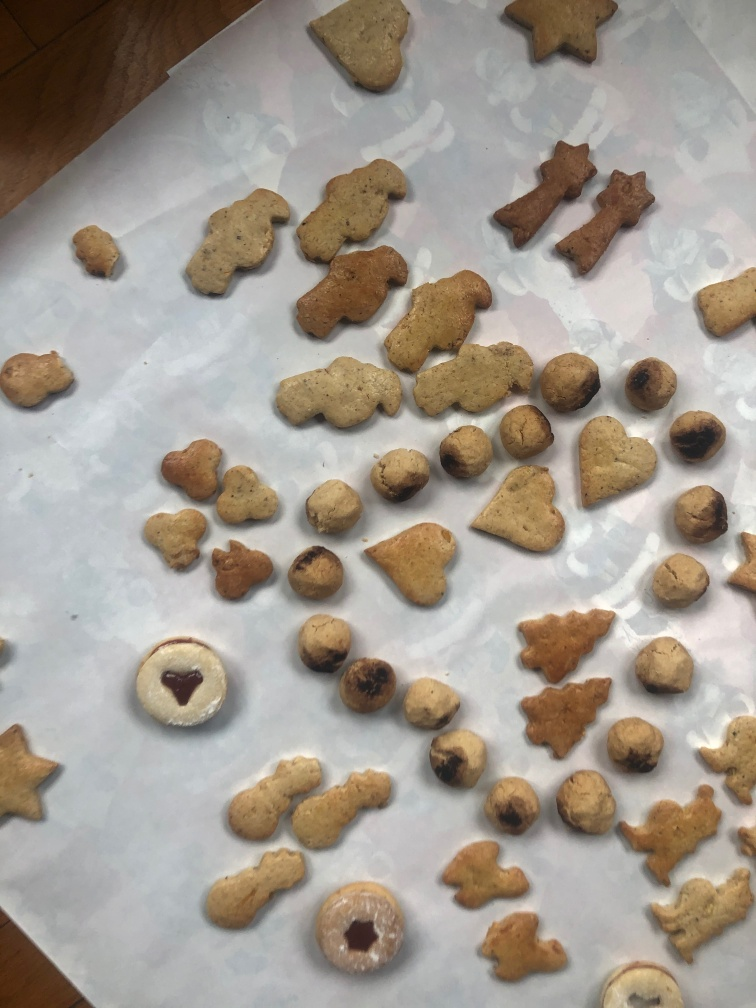christmas shortbread with jam: (313, 878, 413, 978), (132, 634, 226, 724), (594, 962, 691, 1008)
christmas tree: (514, 669, 616, 769), (514, 604, 616, 683)
flake: (206, 532, 280, 606), (216, 462, 283, 541), (141, 507, 210, 577), (158, 436, 227, 504)
heart: (308, 1, 423, 90), (467, 462, 565, 566), (360, 521, 467, 612), (574, 414, 660, 507)
lamb: (476, 907, 577, 988), (442, 834, 534, 906)
santa claus: (177, 181, 293, 298), (286, 243, 408, 349), (292, 156, 415, 259), (643, 862, 754, 970), (614, 782, 726, 889), (379, 266, 493, 365), (270, 354, 403, 433), (411, 338, 533, 422), (697, 706, 756, 804)
shooting star: (553, 167, 660, 275), (492, 137, 598, 246)
snowball: (282, 540, 348, 610), (605, 710, 664, 782), (631, 634, 696, 698), (537, 349, 599, 416), (398, 670, 469, 728), (557, 766, 616, 835), (645, 553, 714, 610), (304, 476, 361, 543), (670, 485, 732, 544), (666, 407, 725, 467), (296, 613, 355, 673), (487, 771, 543, 833), (367, 446, 431, 500), (338, 657, 396, 716), (431, 727, 486, 788), (497, 401, 564, 451), (439, 424, 497, 479)
snowman: (202, 839, 313, 934), (216, 750, 326, 837), (291, 763, 397, 846)
star: (492, 1, 625, 74), (2, 722, 63, 832), (729, 527, 756, 614)
